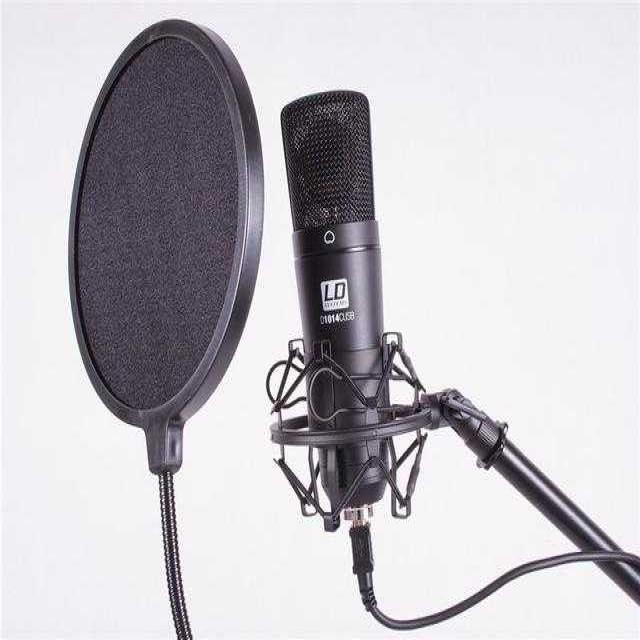microphone: (280, 93, 392, 518)
